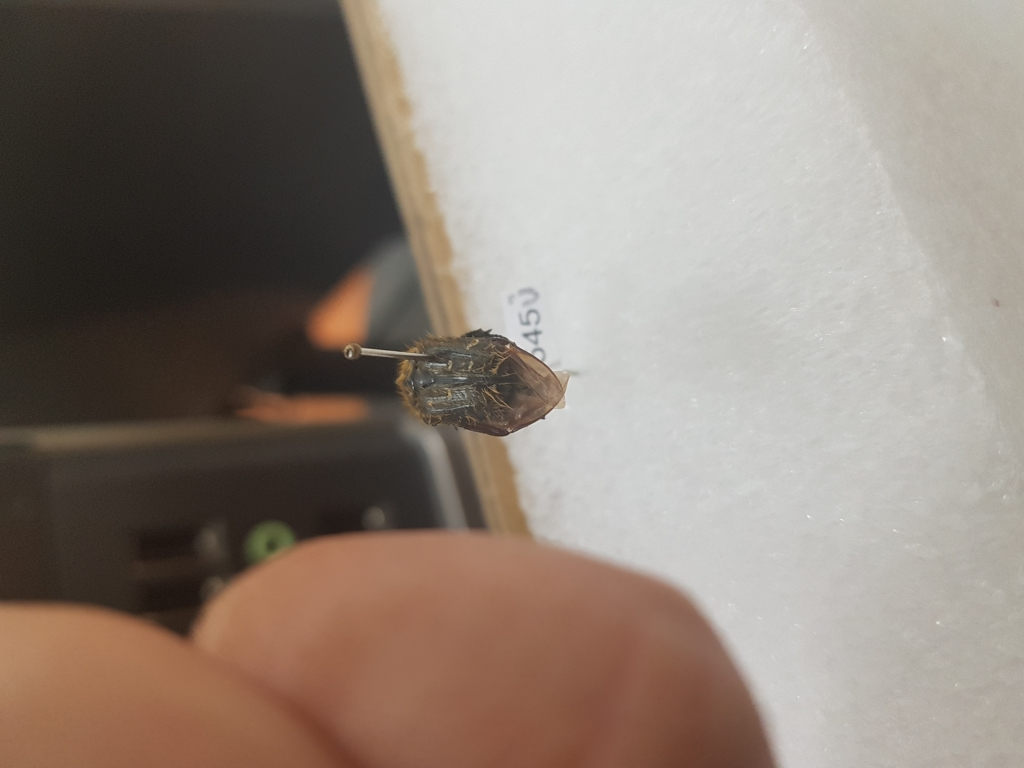Tropinota_hirta: (384, 314, 575, 440)
